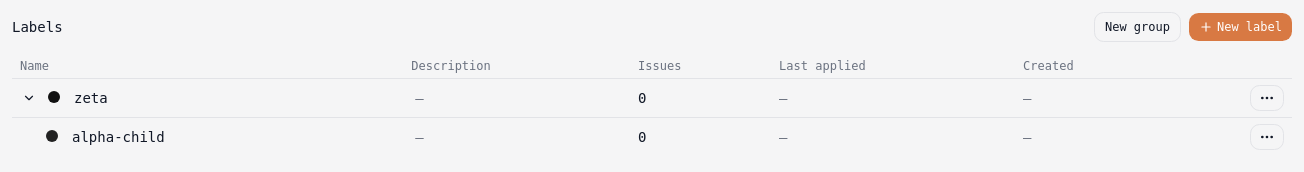
Test: labels settings › disclosure button hides and shows children
The image size is (1304, 172).
Expected: the text "alpha-child" is shown, [72, 129, 165, 145]
Click the button named "Toggle zeta" at x=29, y=98, box [20, 89, 38, 107]
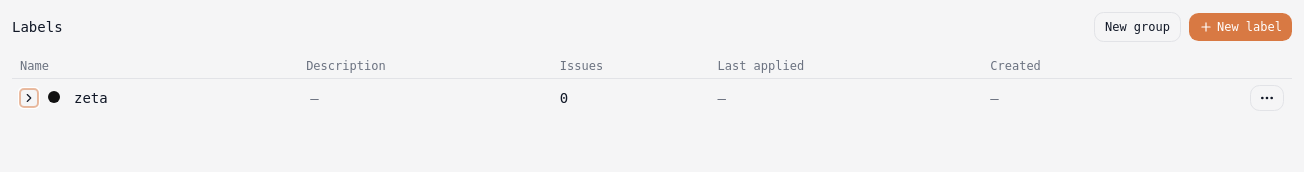
Expected: the button named "Toggle zeta" is collapsed
Expected: the button "alpha-child" is gone
Click the button named "Toggle zeta" at x=29, y=98, box [20, 89, 38, 107]
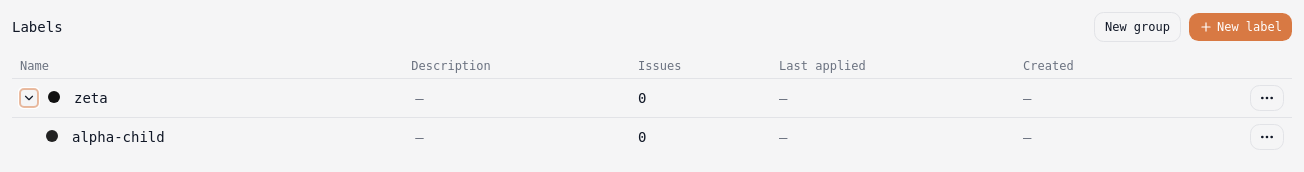
Expected: the button named "Toggle zeta" is expanded, [20, 89, 38, 107]
Expected: the text "alpha-child" is shown, [72, 129, 165, 145]
